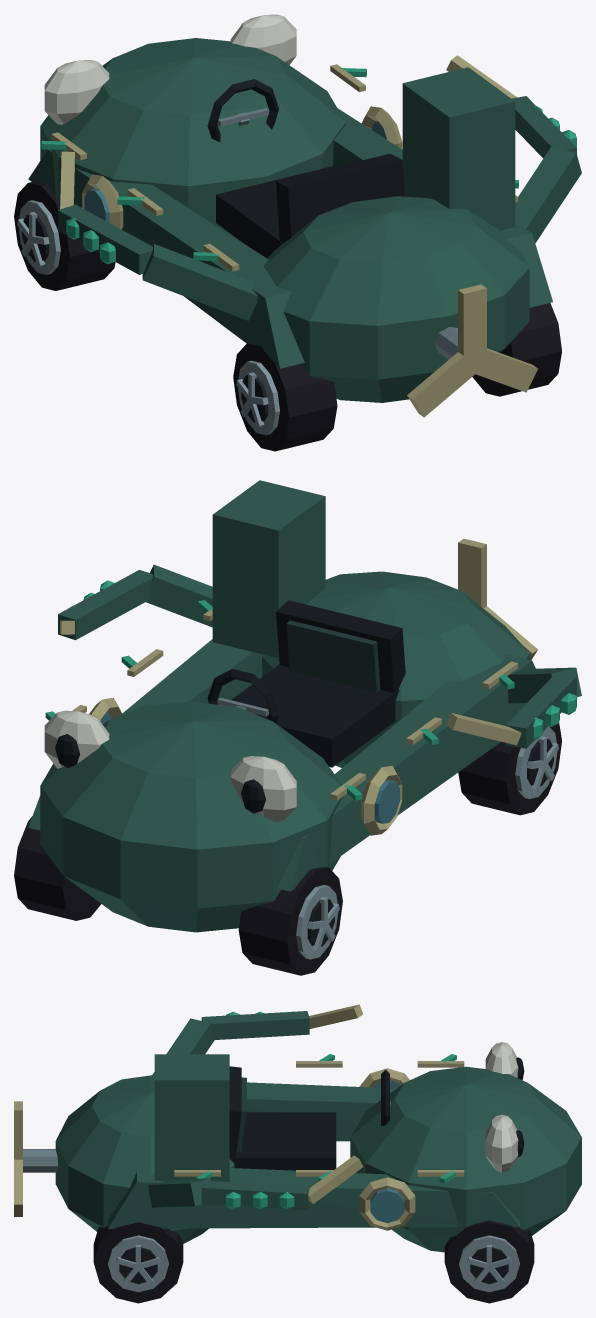
The model's file is kart.glb.
3 views of the same model, one above another, from view 1: azimuth 30°, elevation 25°; view 2: azimuth 150°, elevation 25°; view 3: azimuth 270°, elevation 25° (orthographic). The views are drawn at different scales.
Visible parts, largest first — view 1: identity-submarine-submarine-rounded-bow-and-stern-propeller, identity-submarine-motif-tentacles, identity-submarine-driver-cockpit, wheel-rear-left, wheel-front-left, identity-submarine-motif-eyes, wheel-rear-right, identity-submarine-motif-runes; view 2: identity-submarine-submarine-rounded-bow-and-stern-propeller, identity-submarine-driver-cockpit, identity-submarine-motif-tentacles, wheel-front-left, identity-submarine-motif-eyes, wheel-rear-left, wheel-front-right, identity-submarine-motif-runes; view 3: identity-submarine-submarine-rounded-bow-and-stern-propeller, identity-submarine-motif-tentacles, identity-submarine-driver-cockpit, wheel-rear-right, wheel-front-right, identity-submarine-motif-eyes, identity-submarine-motif-runes.
Part boxes in pixels (<box>): identity-submarine-submarine-rounded-bow-and-stern-propeller: <box>28,38,552,417</box>; identity-submarine-motif-tentacles: <box>58,55,581,320</box>; identity-submarine-driver-cockpit: <box>207,79,404,258</box>; wheel-rear-left: <box>233,343,337,451</box>; wheel-front-left: <box>14,181,115,290</box>; identity-submarine-motif-eyes: <box>44,14,296,124</box>; wheel-rear-right: <box>472,303,561,396</box>; identity-submarine-motif-runes: <box>41,64,518,271</box>; identity-submarine-submarine-rounded-bow-and-stern-propeller: <box>28,480,537,932</box>; identity-submarine-driver-cockpit: <box>207,600,405,767</box>; identity-submarine-motif-tentacles: <box>58,564,581,748</box>; wheel-front-left: <box>238,867,342,975</box>; identity-submarine-motif-eyes: <box>44,710,296,822</box>; wheel-rear-left: <box>458,723,561,815</box>; wheel-front-right: <box>14,816,100,920</box>; identity-submarine-motif-runes: <box>45,600,517,800</box>; identity-submarine-submarine-rounded-bow-and-stern-propeller: <box>14,1054,581,1252</box>; identity-submarine-motif-tentacles: <box>148,1004,362,1210</box>; identity-submarine-driver-cockpit: <box>229,1066,390,1170</box>; wheel-rear-right: <box>93,1222,183,1303</box>; wheel-front-right: <box>444,1220,534,1303</box>; identity-submarine-motif-eyes: <box>485,1042,524,1172</box>; identity-submarine-motif-runes: <box>174,1054,464,1183</box>.
Bounding box in the file's own units: 2.45 × 1.36 × 3.17.
